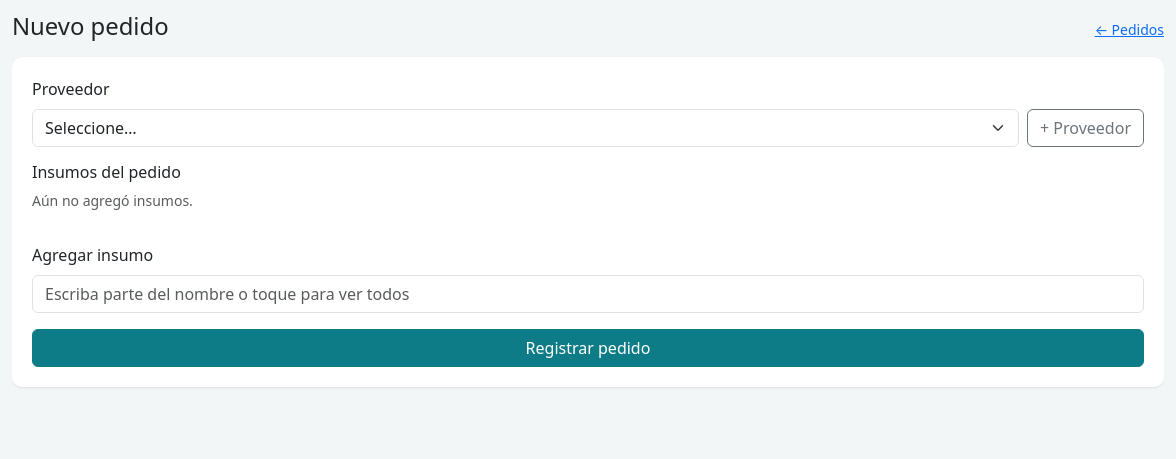
CU-30 NuevoPedido › flujo básico: busca insumo (CU-22), agrega, elige proveedor y registra
This screenshot has width=1176, height=459.
Select "Distribuidora Odontomed S.A.C. — RUC 20601234567" in the dropdown labelled "Proveedor": (526, 128) [32, 109, 1019, 147]
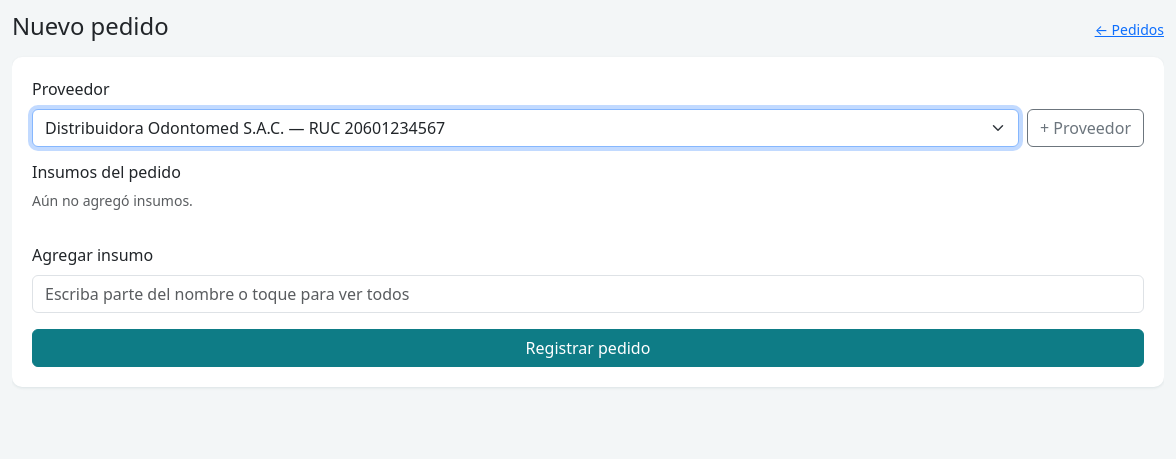
In the dropdown labelled "Agregar insumo": (588, 294) [32, 275, 1144, 313], type "copa"
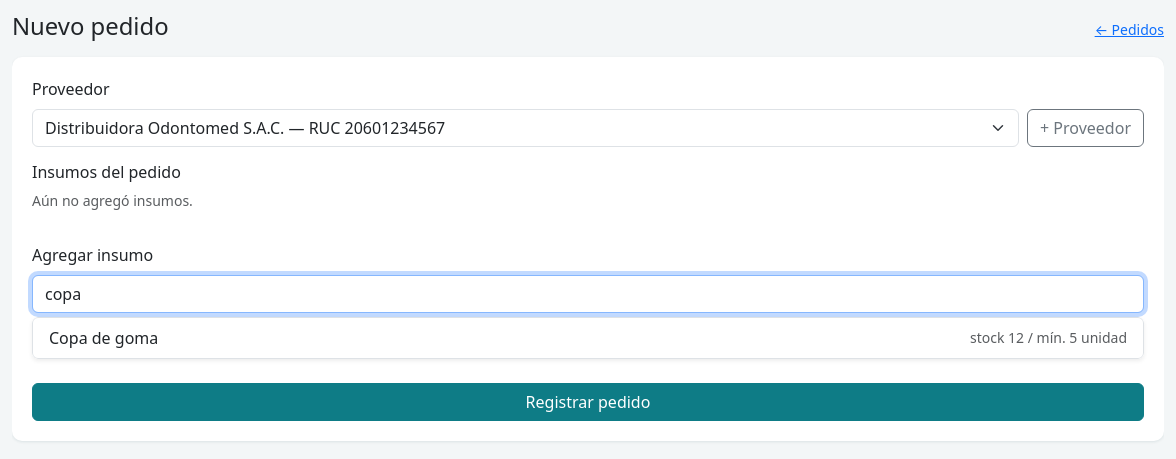
Click the option "Copa de goma stock 12 / mín. 5 unidad": (104, 338) [32, 317, 1144, 359]
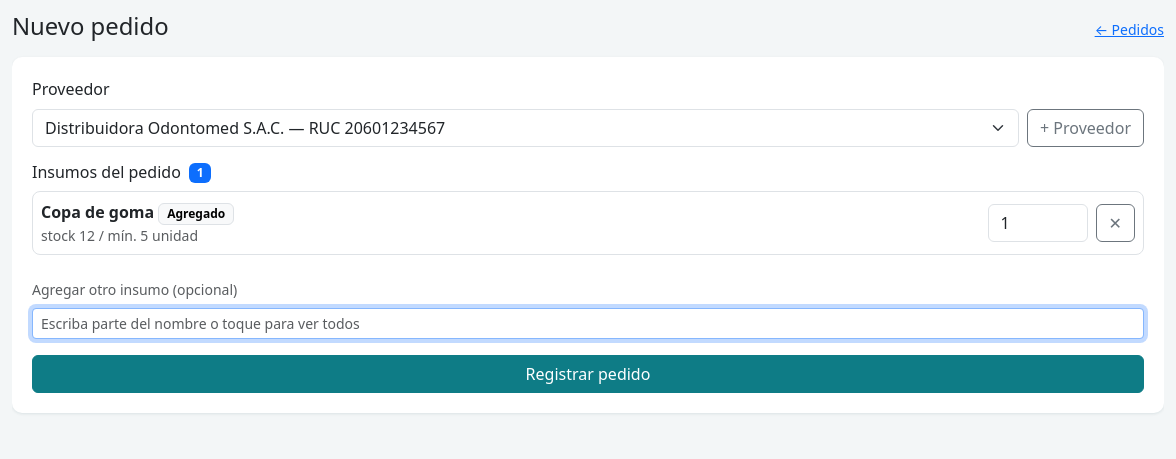
Replace the text in the field named "Cantidad de Copa de goma" with "20": (1038, 223) [988, 204, 1088, 242]
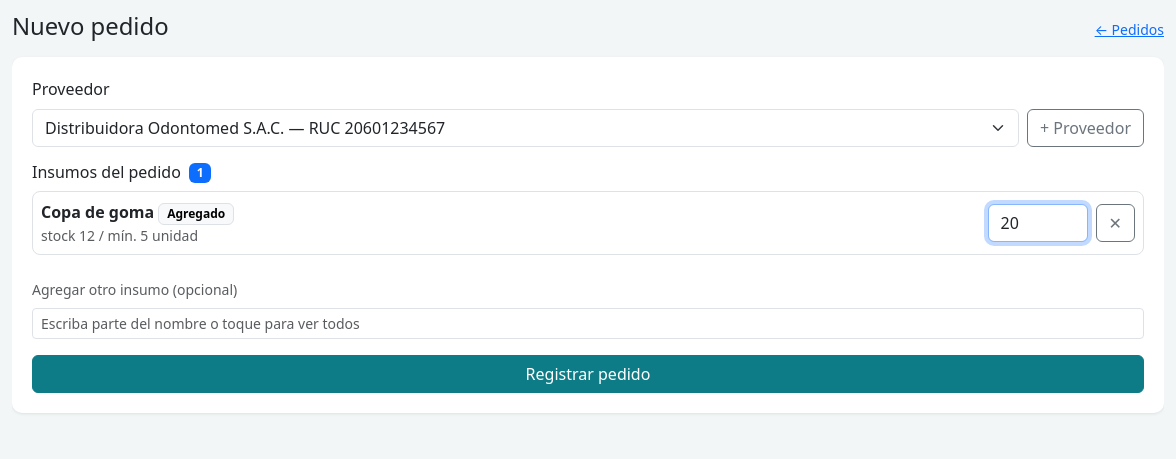
Click the button "Registrar pedido": (588, 374) [32, 355, 1144, 393]
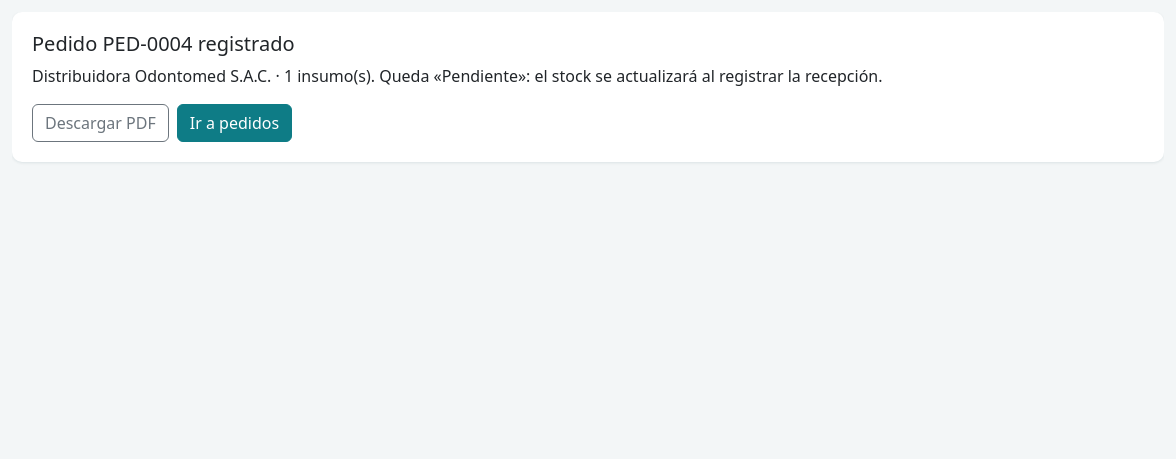
Expected: the heading "Pedido PED-0004 registrado" is shown, [32, 30, 295, 57]
